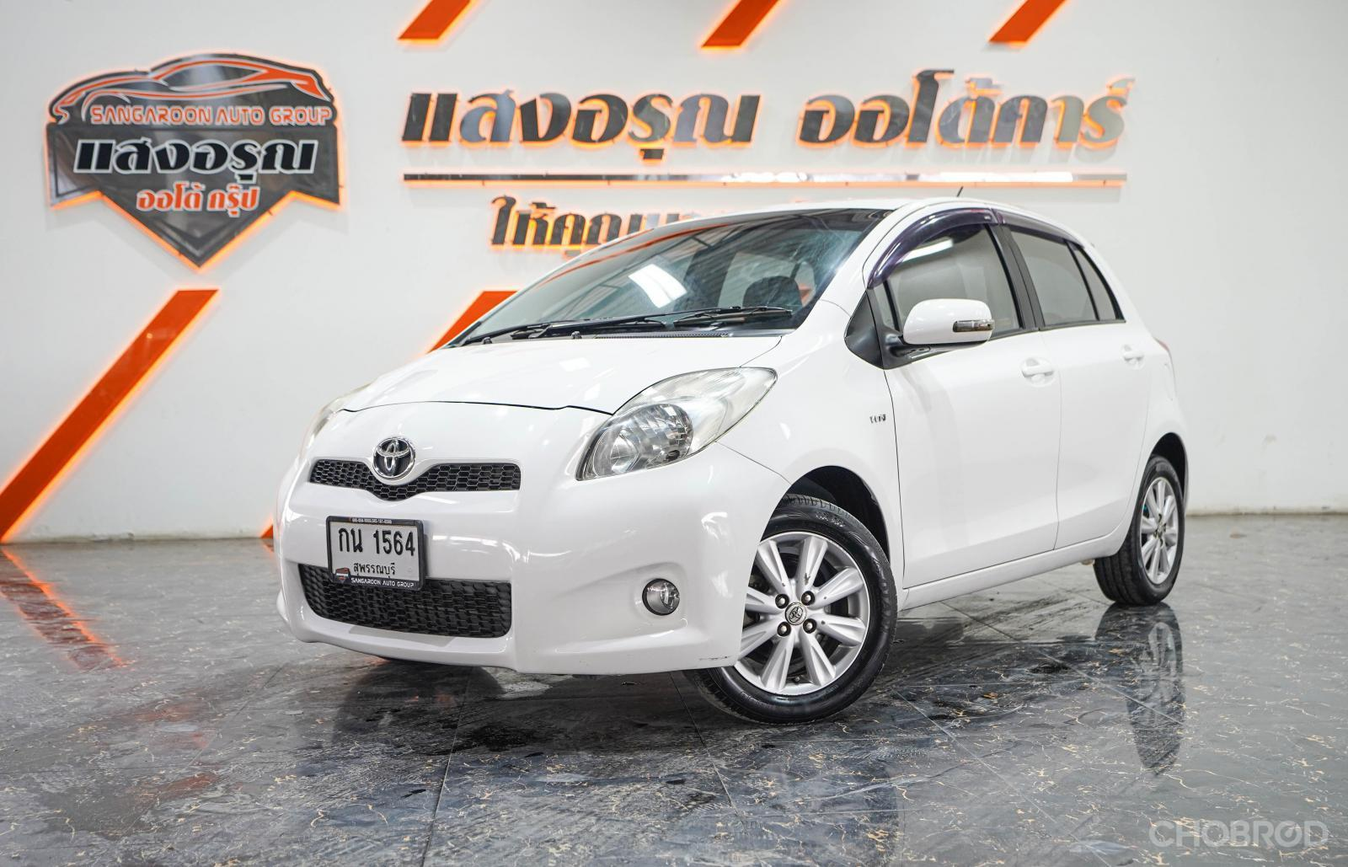license-plate: (325, 513, 426, 589)
